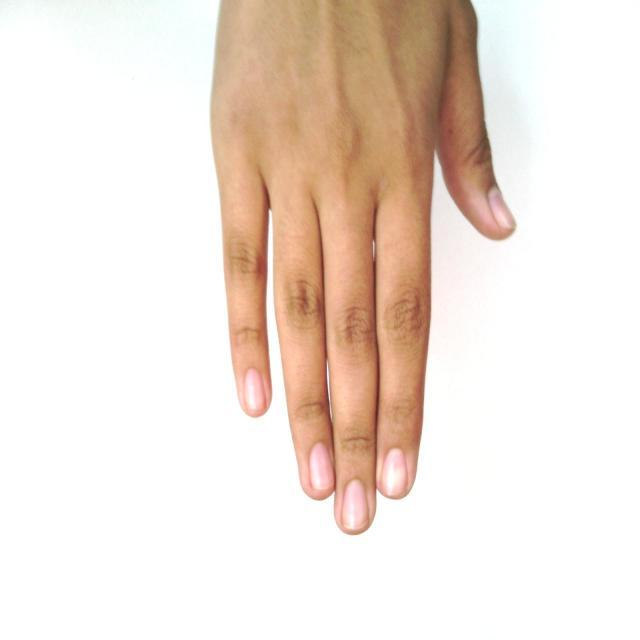Fingernail: (382, 448, 407, 496), (342, 480, 367, 528), (489, 186, 516, 229), (310, 444, 332, 490), (244, 369, 264, 412)
